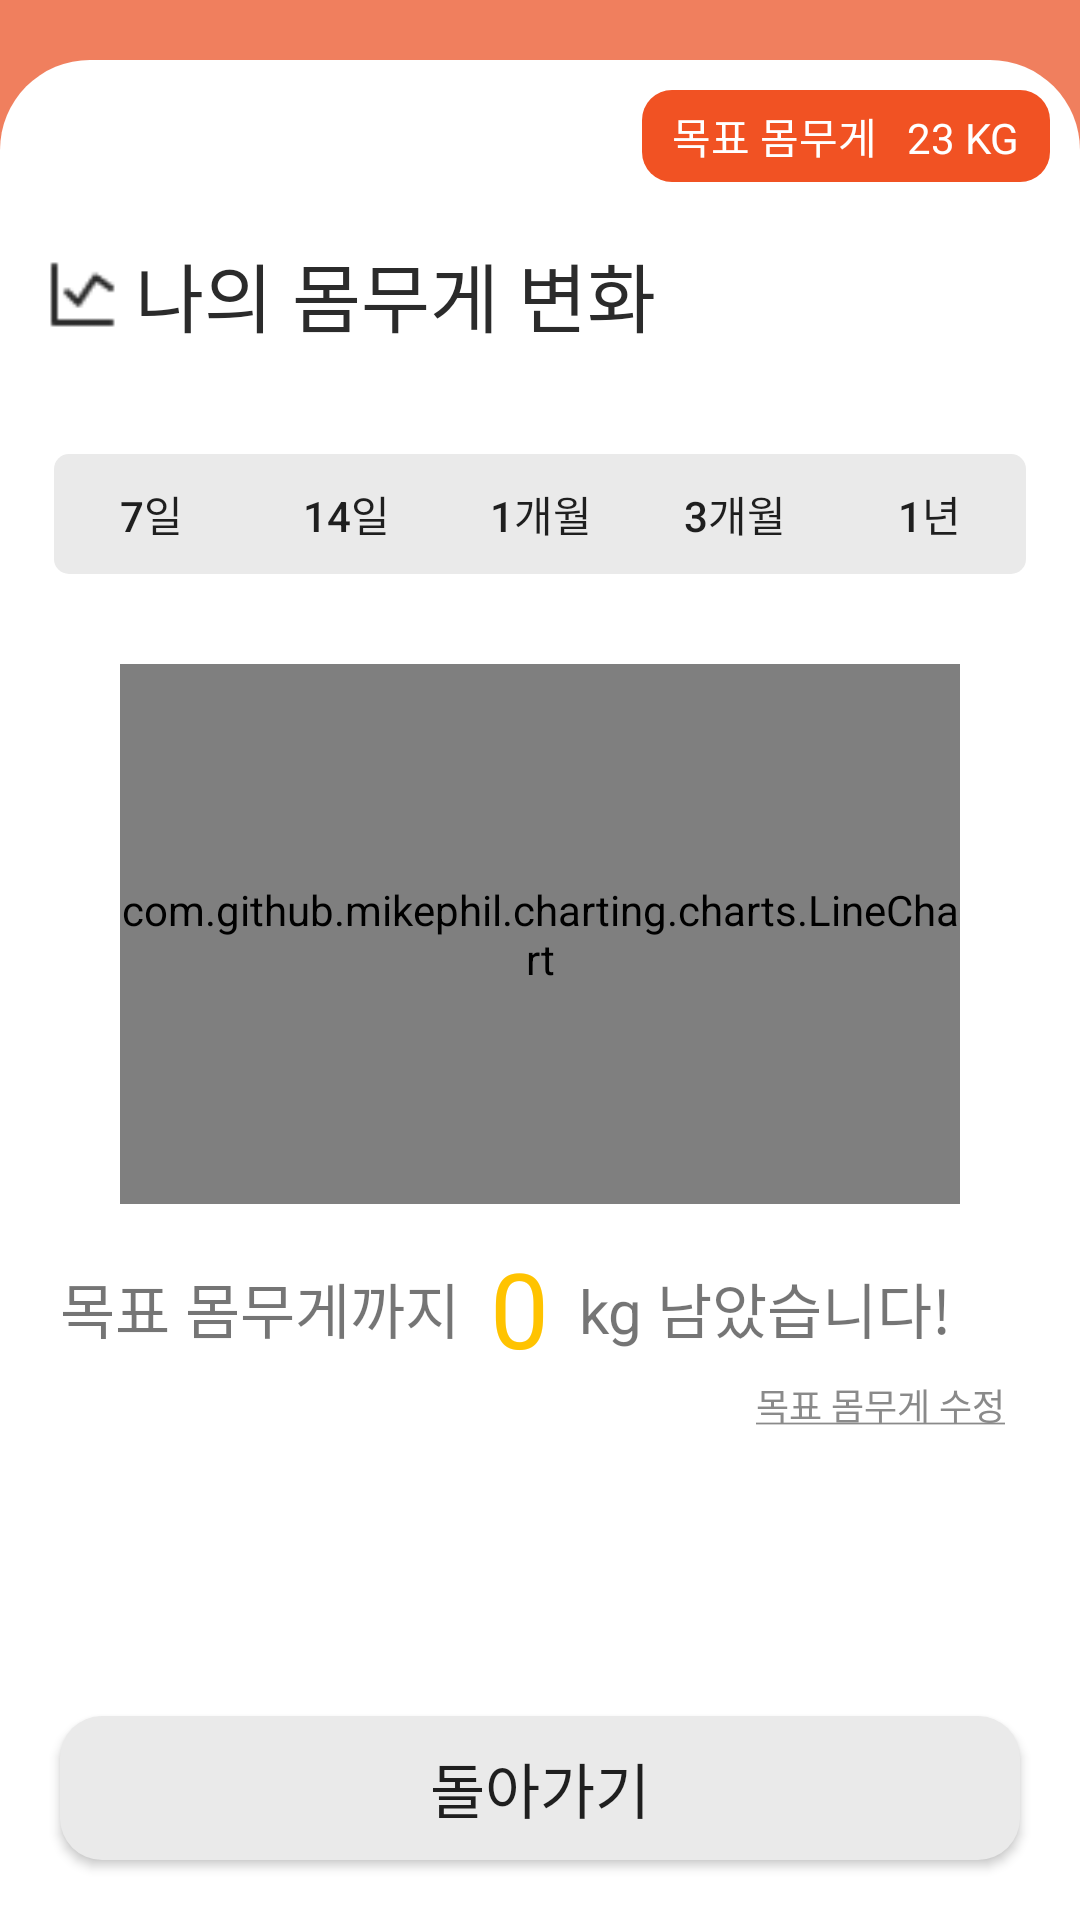

Icon bounding boxes for this 1080*1920 phone screenshot, format (x1, y1, x2, y2):
graph: (50, 262, 115, 327)
